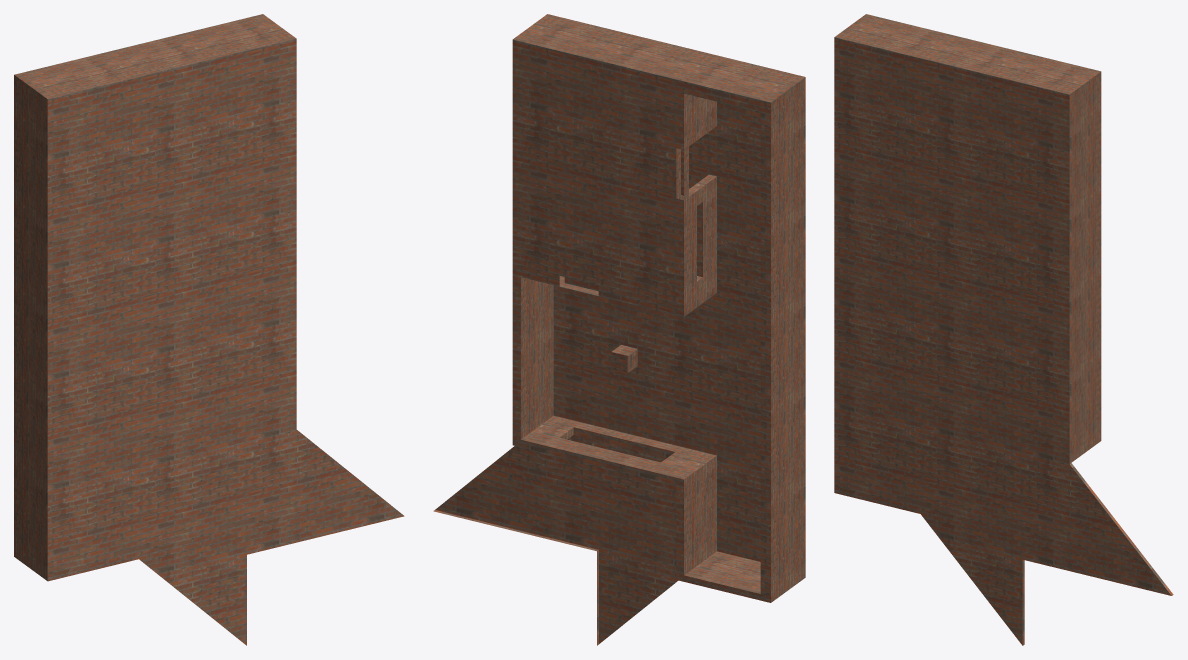
Rendered from Environment_Bricks.dae.
3 renders of one model, left to right at view 1: azimuth 30°, elevation 25°; view 2: azimuth 150°, elevation 25°; view 3: azimuth 330°, elevation 25°, orthographic. The views are drawn at different scales.
Visible parts, largest first — view 1: Cube; view 2: Cube; view 3: Cube.
Boxes of the visible parts, <box> form: Cube: <box>14,14,404,645</box>; Cube: <box>433,14,805,645</box>; Cube: <box>834,14,1173,645</box>.
Size of the model in its own units: 14.6 by 2.38 by 23.26.
